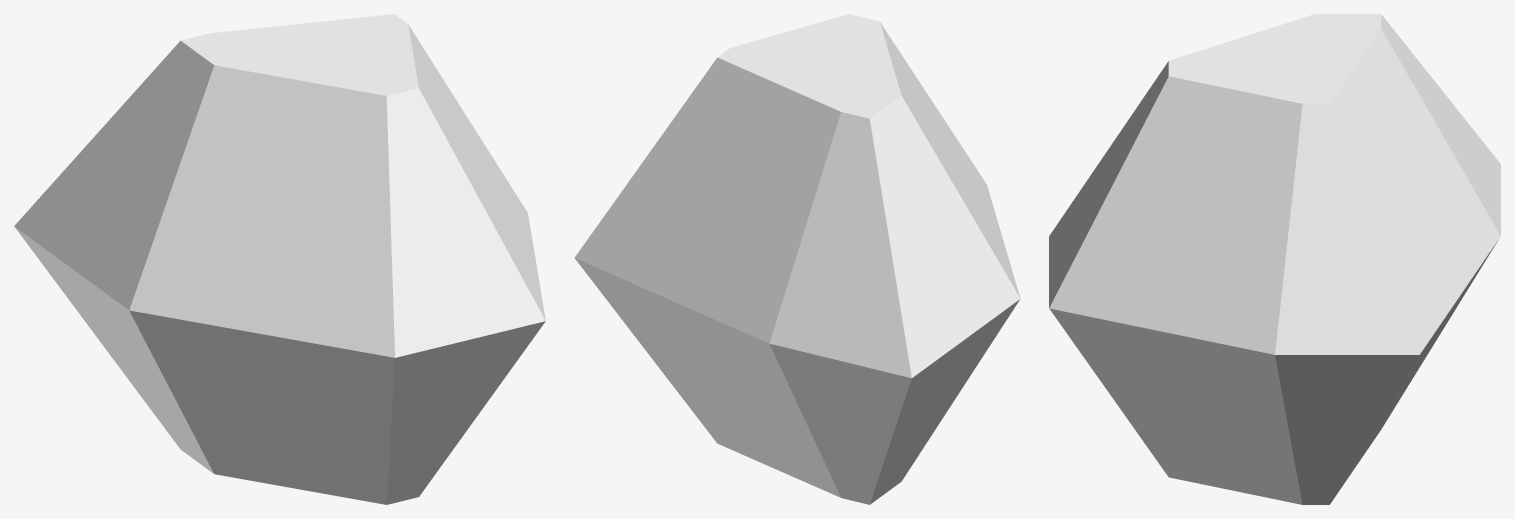
File: asteroid2.glb
The picture shows the model from 3 angles, left to right: view 1: azimuth 30°, elevation 25°; view 2: azimuth 150°, elevation 25°; view 3: azimuth 270°, elevation 25°; orthographic projection. The views are drawn at different scales.
Parts seen in each view (by area): view 1: mergedBlocks(Clone); view 2: mergedBlocks(Clone); view 3: mergedBlocks(Clone).
Boxes of the visible parts, x1,y1,x2,y2 form: mergedBlocks(Clone): (14,14,545,504); mergedBlocks(Clone): (574,14,1020,504); mergedBlocks(Clone): (1049,14,1500,504).
Bounding box in the file's own units: 0.3608 × 0.3536 × 0.3608.
Materials: 1 (1 with a texture image).
